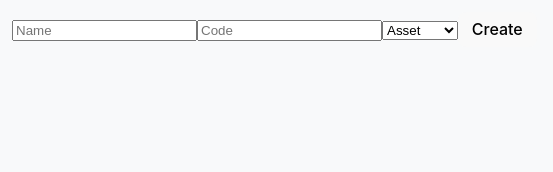
Test: LedgerAccountForm Component › Error Handling › clears previous errors on new submission
# First submission fails
In the field named "account name": coordinates (104, 31) [12, 20, 197, 41], type "Test Account"
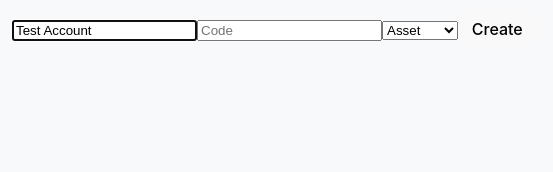
In the field named "account code": coordinates (290, 31) [197, 20, 382, 41], type "1000"
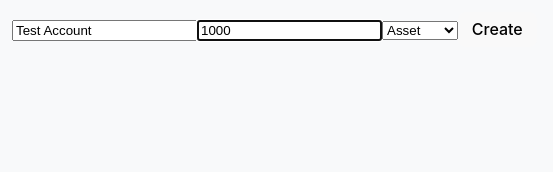
Click the button "Create": coordinates (497, 29) [458, 12, 536, 47]
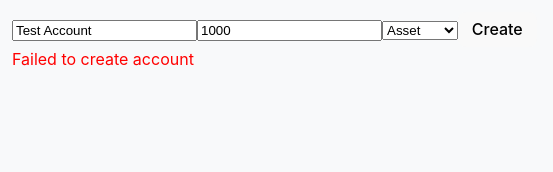
Now the text "Failed to create account" is shown, box [12, 49, 194, 69]
# Second submission succeeds
Click the button "Create": coordinates (497, 29) [458, 12, 536, 47]
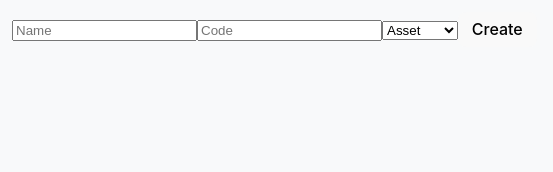
Now the text "Failed to create account" is gone
